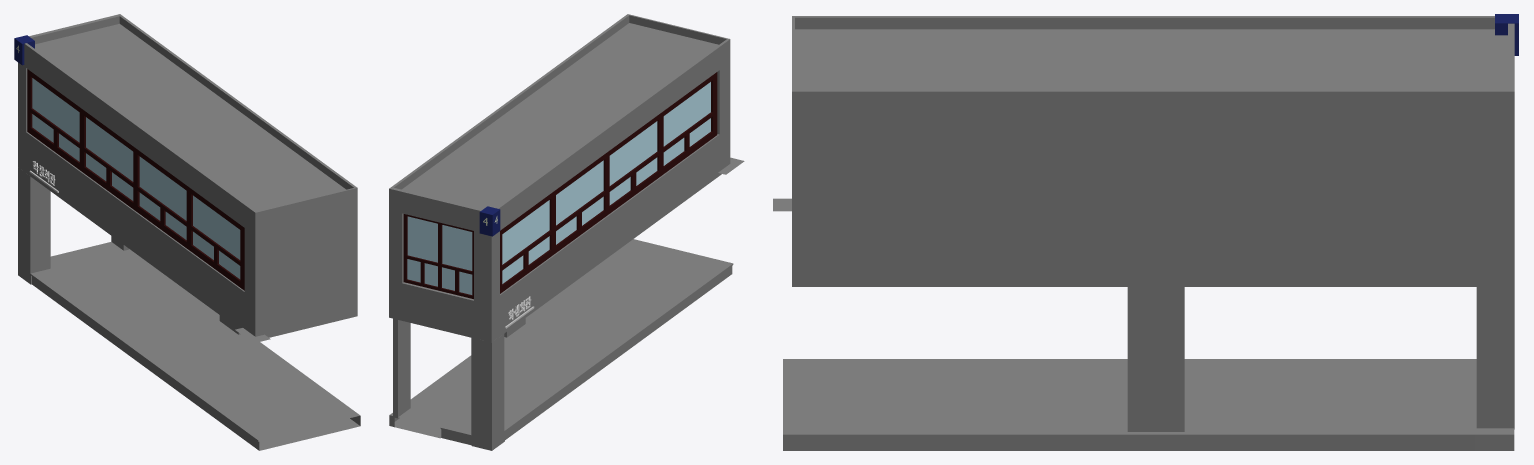
File: B4Enter.glb
3 renders of one model, left to right at view 1: azimuth 30°, elevation 25°; view 2: azimuth 150°, elevation 25°; view 3: azimuth 270°, elevation 25°, orthographic. The views are drawn at different scales.
Parts seen in each view (by area): view 1: B4Enter; view 2: B4Enter; view 3: B4Enter.
Part boxes in pixels (x1=…): B4Enter: x1=14, y1=14, x2=360, y2=450; B4Enter: x1=389, y1=14, x2=744, y2=450; B4Enter: x1=773, y1=14, x2=1518, y2=450.
Size of the model in its own units: 21.59 by 44.27 by 83.2.
